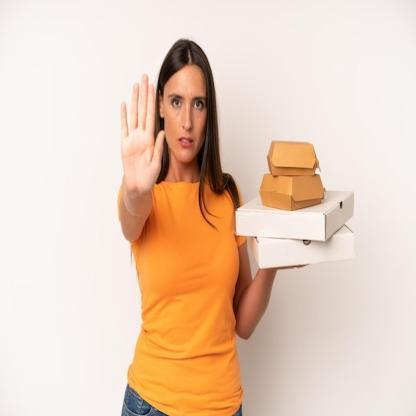stop: (118, 72, 168, 200)
